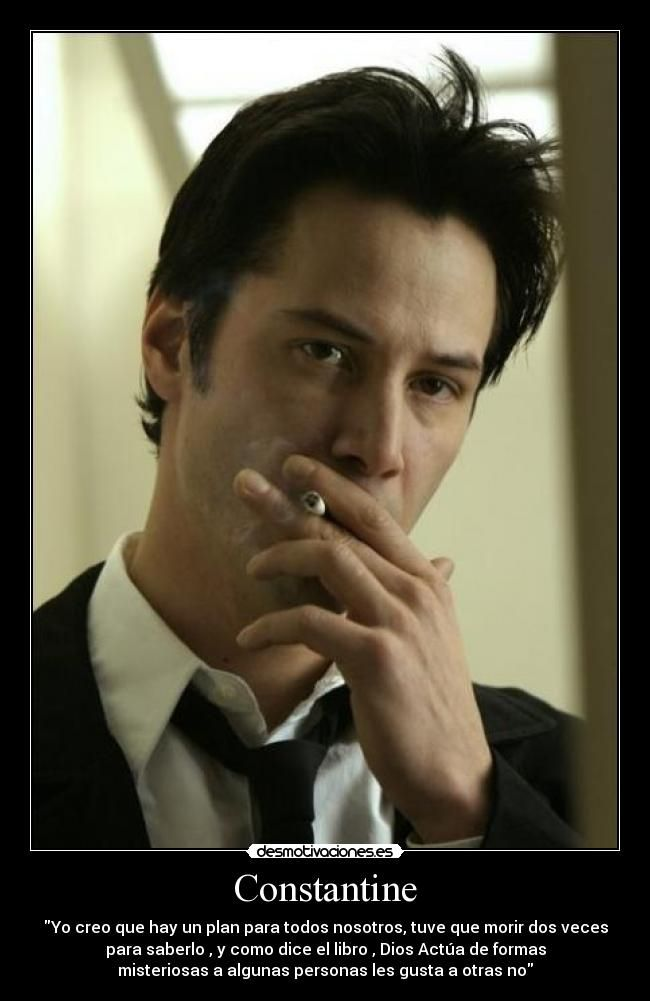cigarette: (287, 484, 335, 525)
